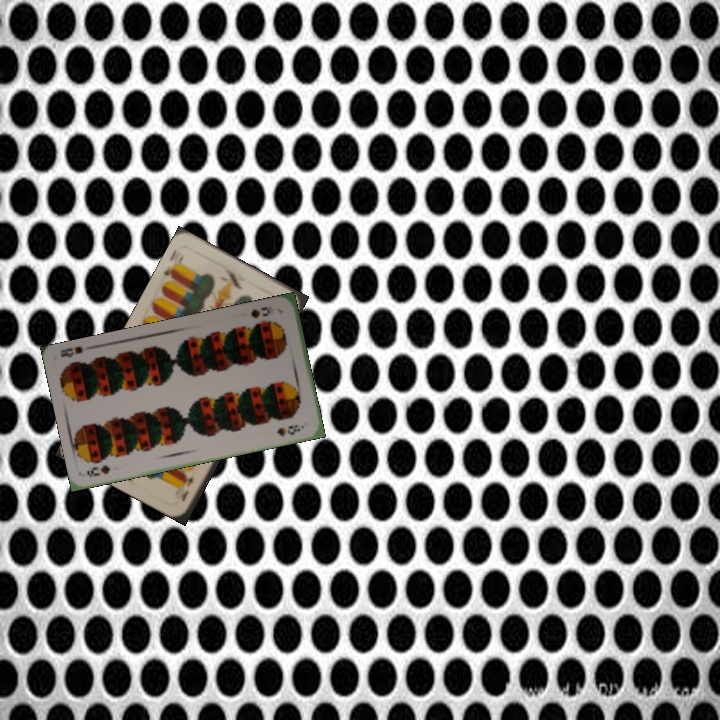E10: (159, 245, 180, 281), (177, 471, 197, 504)
S8: (247, 301, 277, 321), (82, 461, 113, 480)
